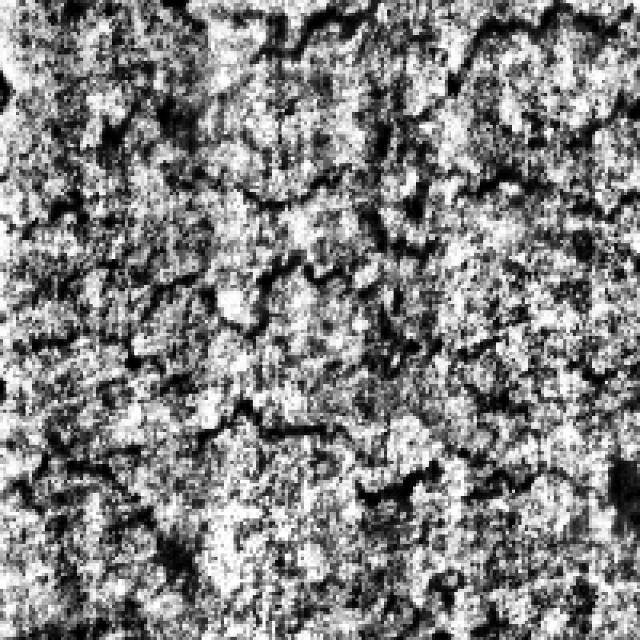Pitted_Surface: (3, 374, 589, 608), (141, 0, 637, 211), (3, 163, 397, 381)
